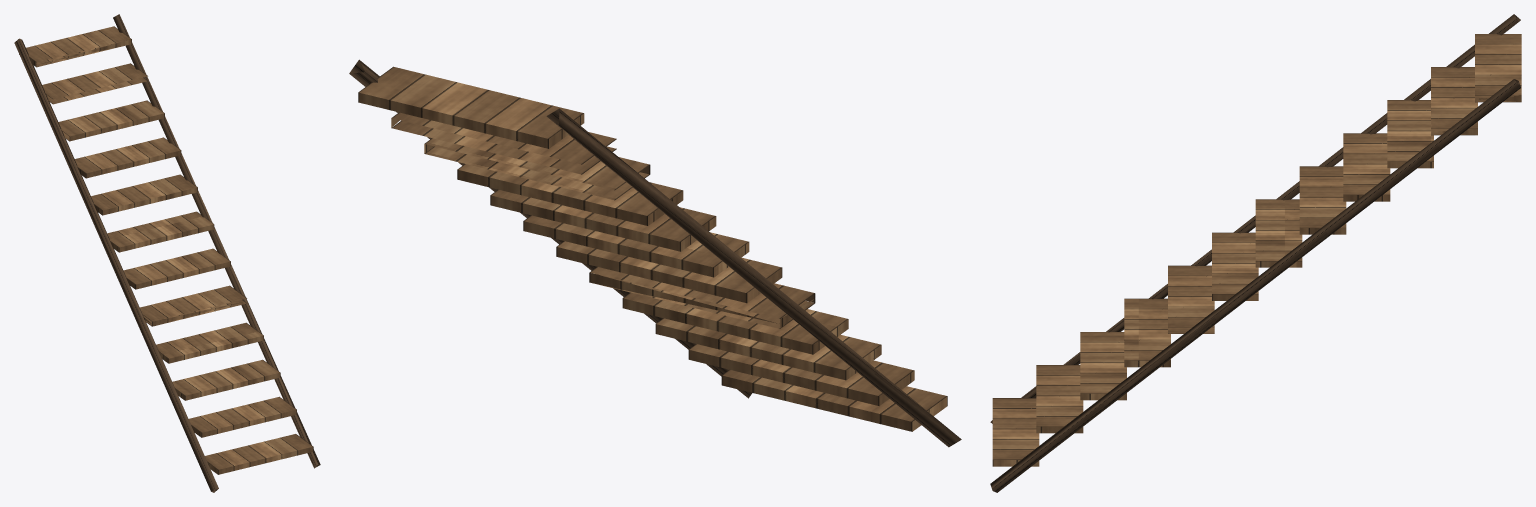
Rendered from Stairs_Gallery_1_LOD2.gltf.
3 views of the same model, side by side, from view 1: azimuth 30°, elevation 25°; view 2: azimuth 150°, elevation 25°; view 3: azimuth 270°, elevation 25° (orthographic). The views are drawn at different scales.
Parts seen in each view (by area): view 1: Stairs_Gallery_1_LOD2; view 2: Stairs_Gallery_1_LOD2; view 3: Stairs_Gallery_1_LOD2.
Part boxes in pixels (left/top/right/bottom): Stairs_Gallery_1_LOD2: left=14, top=14, right=320, bottom=492; Stairs_Gallery_1_LOD2: left=349, top=59, right=961, bottom=447; Stairs_Gallery_1_LOD2: left=990, top=14, right=1521, bottom=492.
Size of the model in its own units: 1.15 by 3.13 by 3.64.
Materials: 2 (2 with a texture image).
